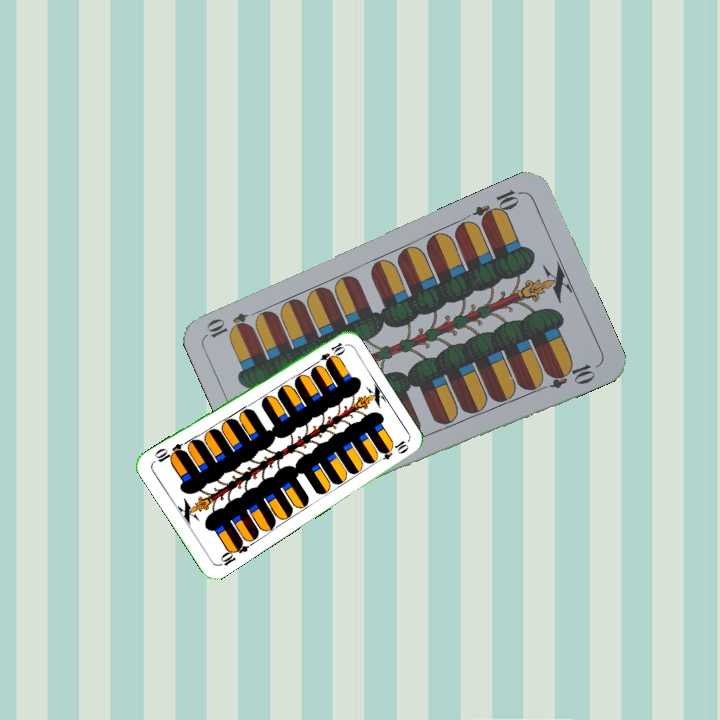E10: (469, 185, 525, 227), (215, 537, 251, 568), (310, 338, 346, 368)
